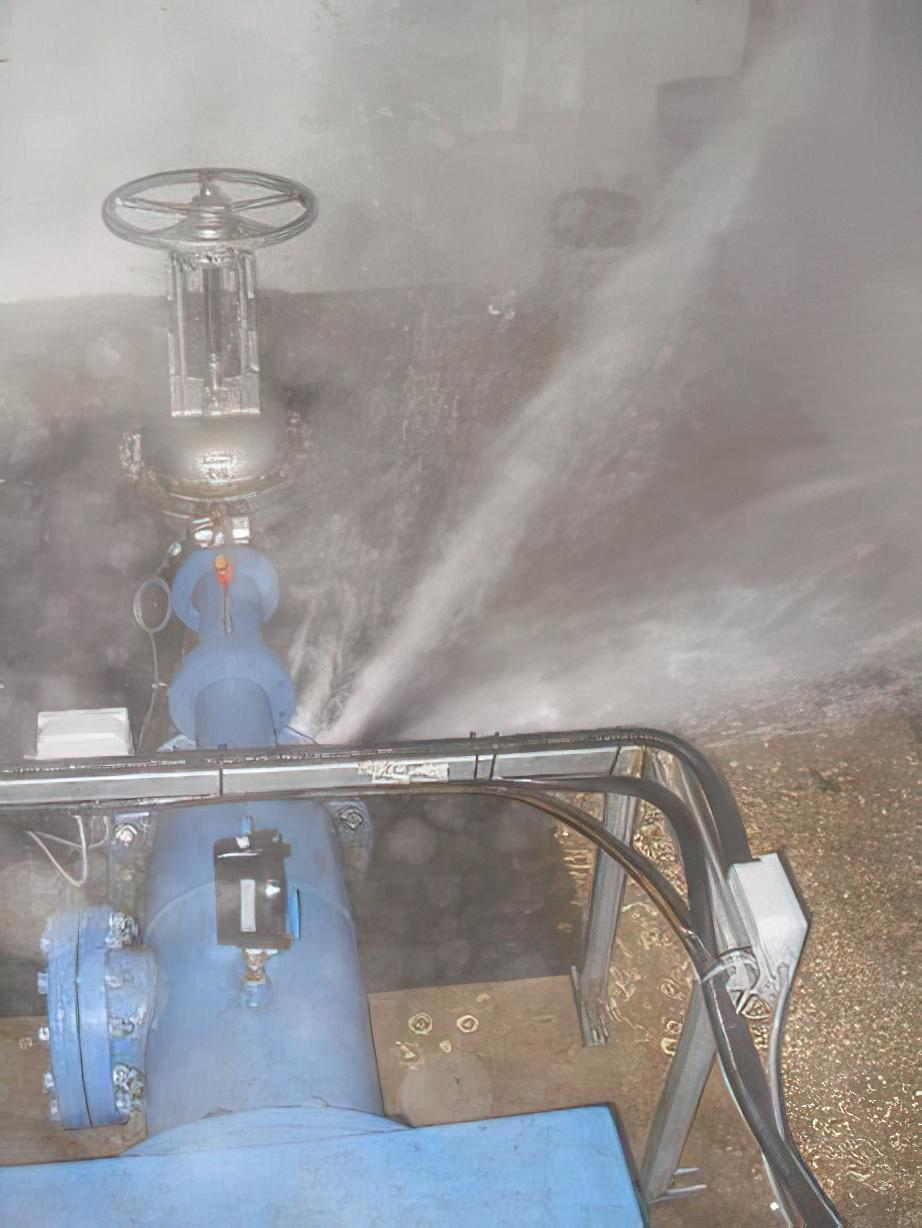pipe burst: (287, 16, 922, 765)
